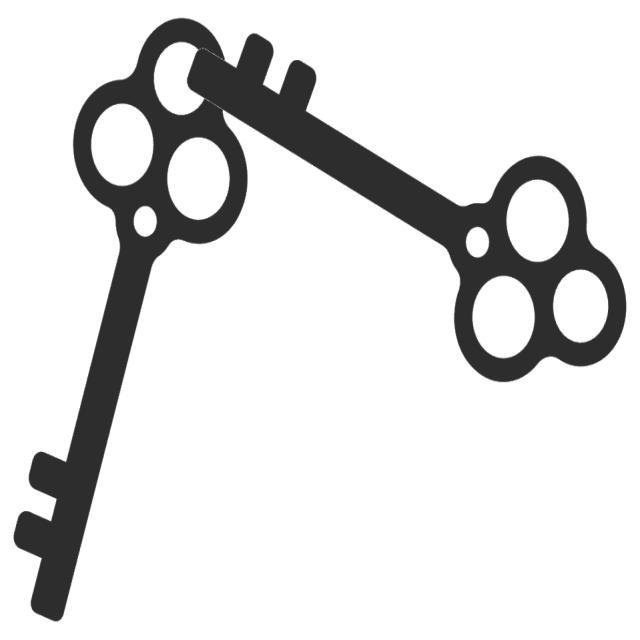key: (178, 12, 635, 394), (6, 9, 258, 629)
